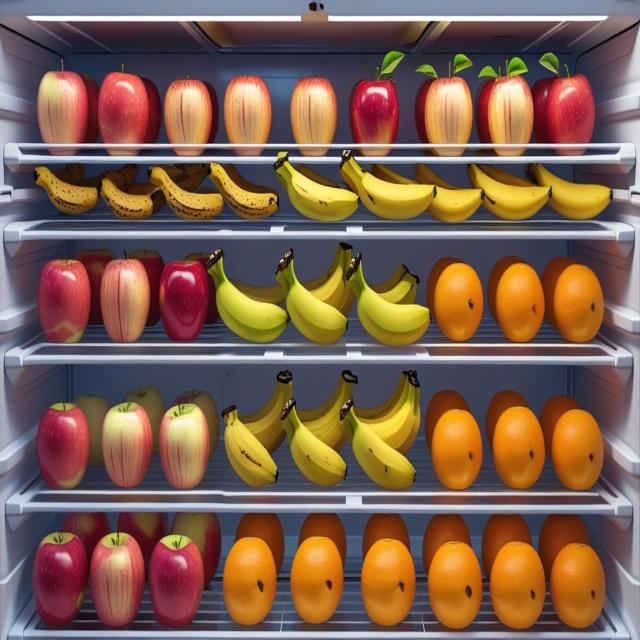apple: (90, 532, 144, 626), (149, 535, 204, 627), (33, 532, 87, 625), (36, 403, 90, 488), (159, 403, 210, 488), (37, 260, 90, 341), (102, 402, 152, 487), (98, 72, 149, 155), (100, 260, 149, 342), (159, 262, 209, 341), (224, 75, 272, 155), (424, 77, 473, 155), (37, 71, 88, 145), (163, 78, 212, 154), (350, 80, 399, 155), (290, 77, 337, 155), (545, 75, 595, 143), (486, 75, 533, 145)
banana: (341, 372, 419, 488), (348, 253, 430, 346), (207, 248, 288, 342), (340, 152, 434, 219), (276, 256, 347, 344), (274, 152, 358, 221), (282, 399, 346, 485), (468, 163, 551, 219), (529, 164, 611, 218), (238, 372, 292, 452), (223, 406, 276, 487), (151, 166, 223, 218), (209, 163, 277, 218), (36, 167, 99, 214), (101, 178, 153, 218), (428, 186, 482, 222), (390, 272, 417, 299), (335, 377, 353, 405)
orange: (490, 542, 545, 628), (361, 538, 415, 625), (550, 543, 605, 628), (223, 537, 276, 625), (428, 541, 481, 628), (290, 537, 343, 623), (492, 406, 545, 488), (551, 409, 603, 489), (430, 410, 482, 489), (433, 262, 483, 341), (495, 262, 544, 342), (553, 263, 603, 341)
